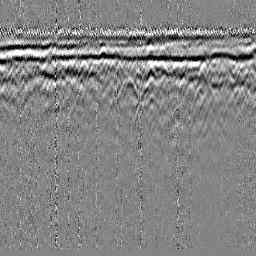cavity: (116, 74, 139, 101)
